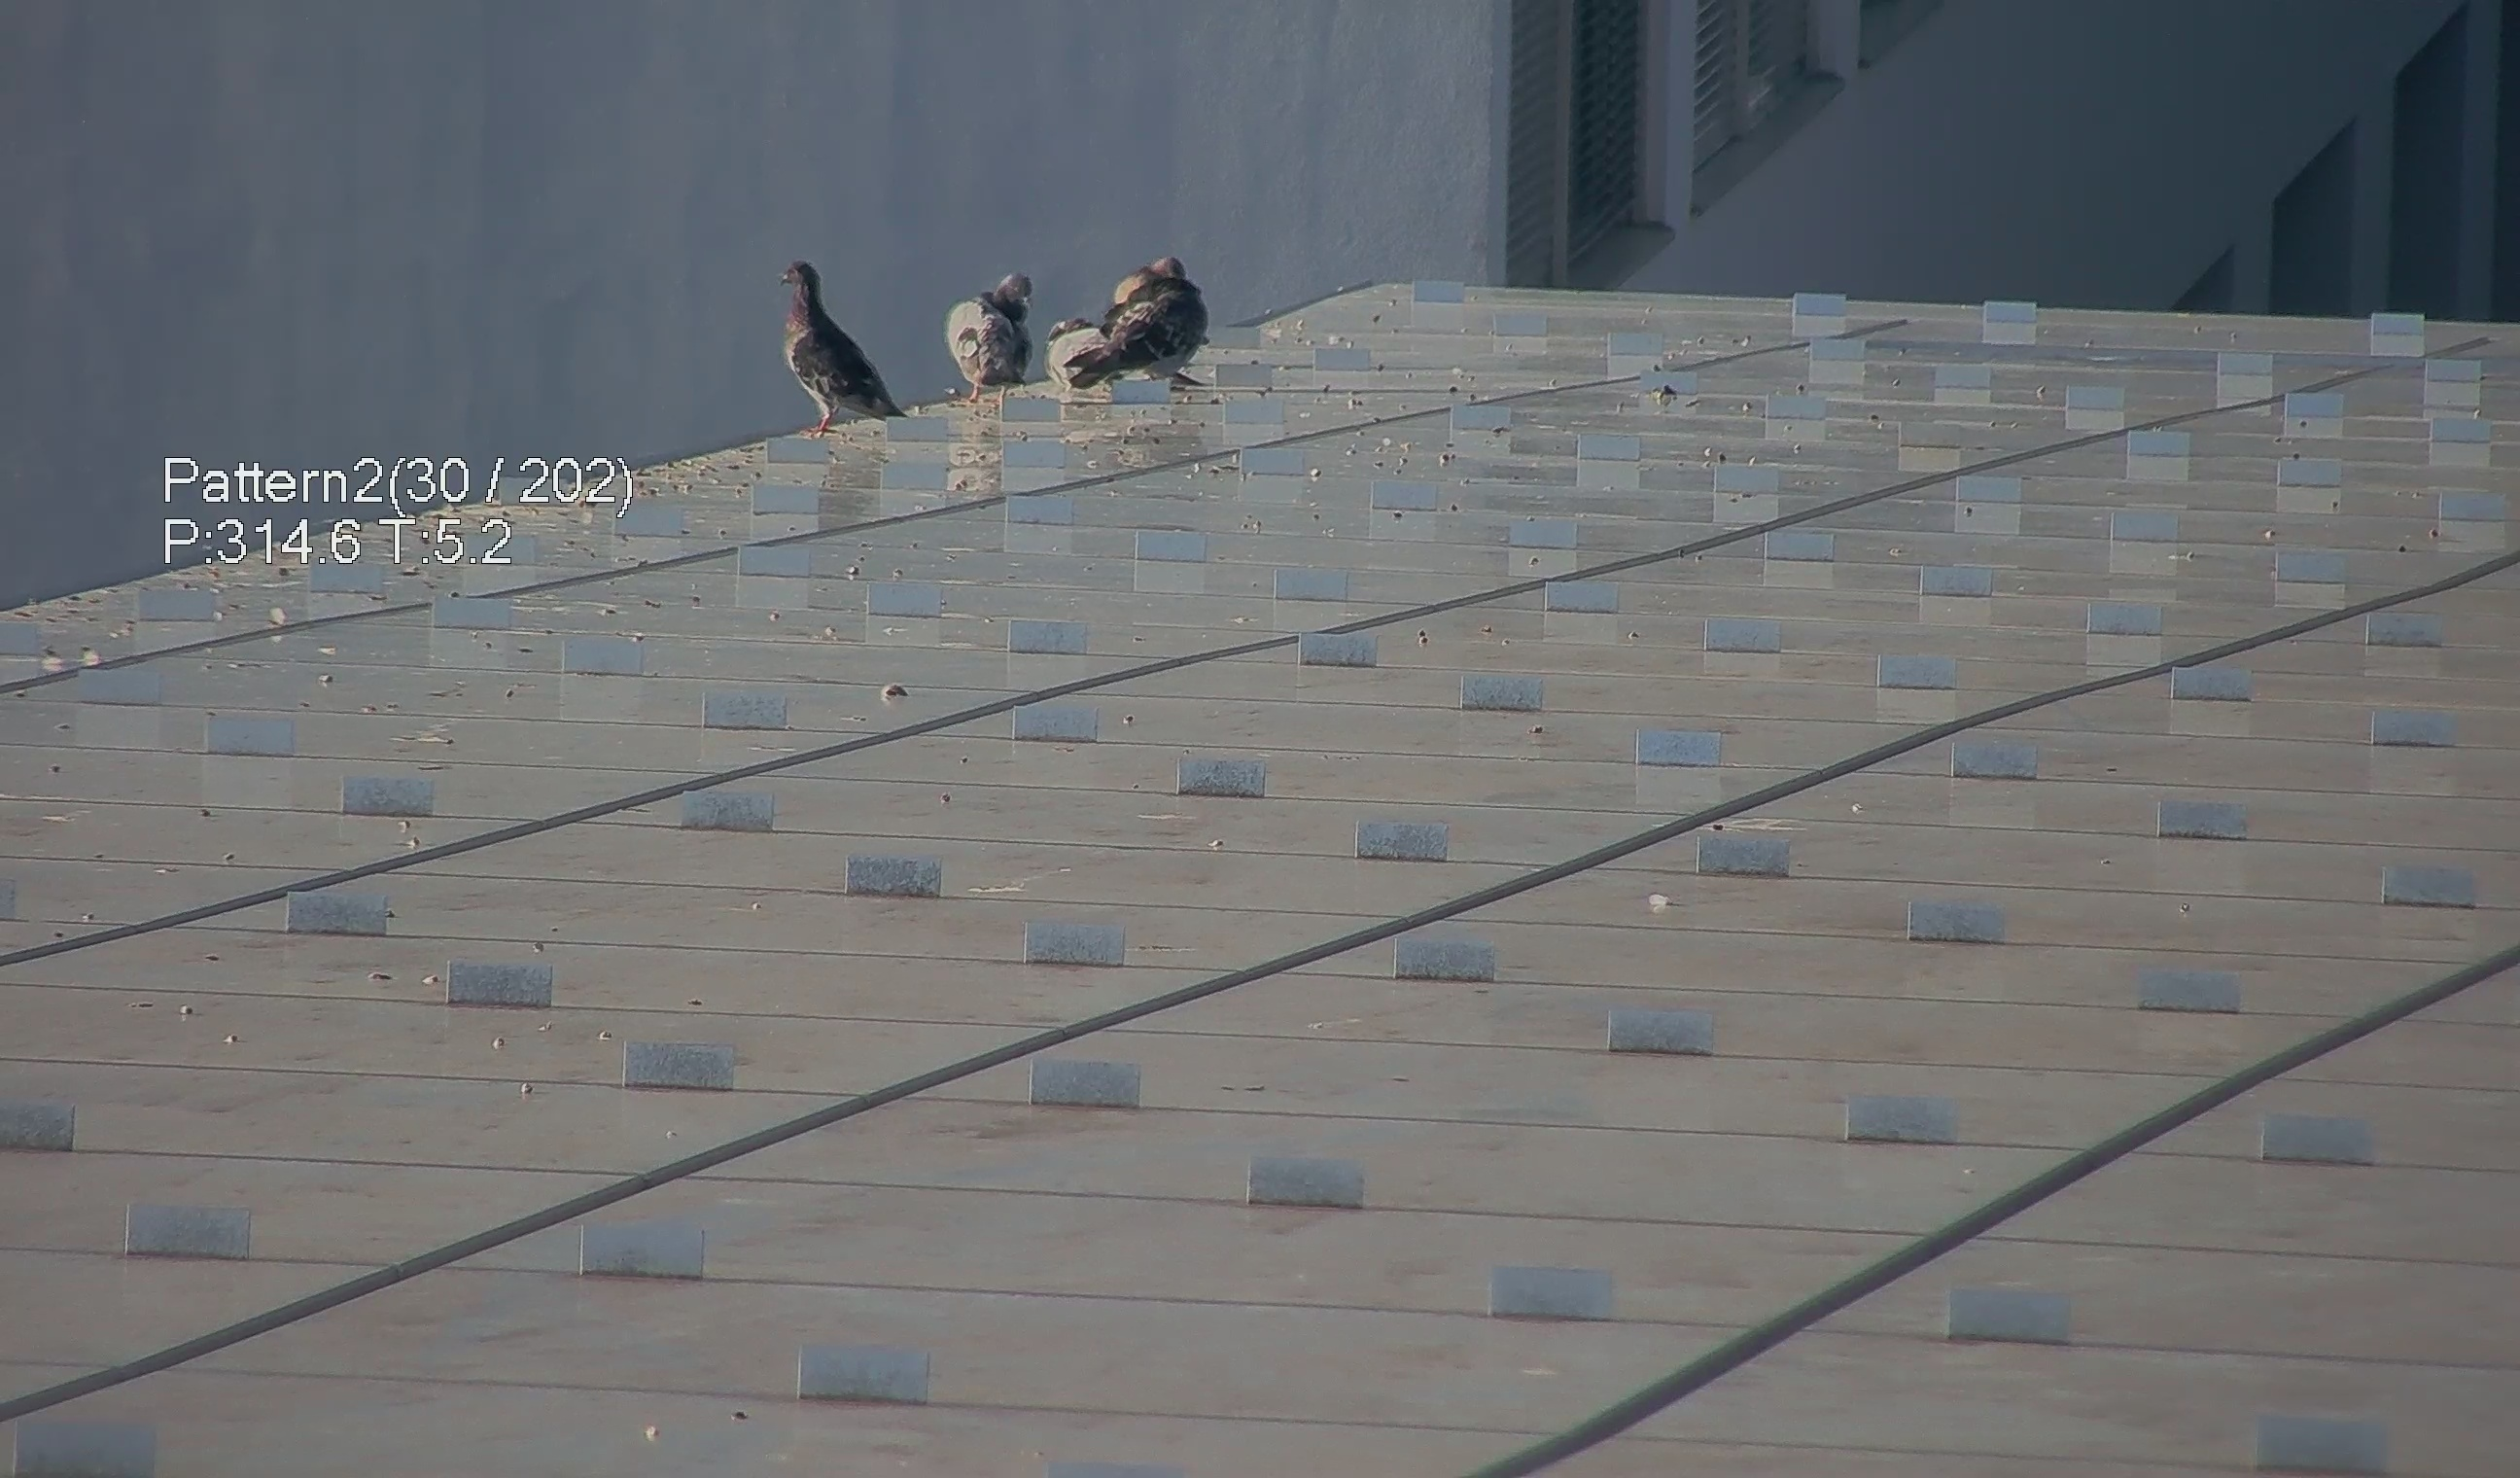Pigeon: (751, 257, 918, 428), (1059, 245, 1215, 396), (936, 255, 1050, 401), (1038, 306, 1106, 410)
